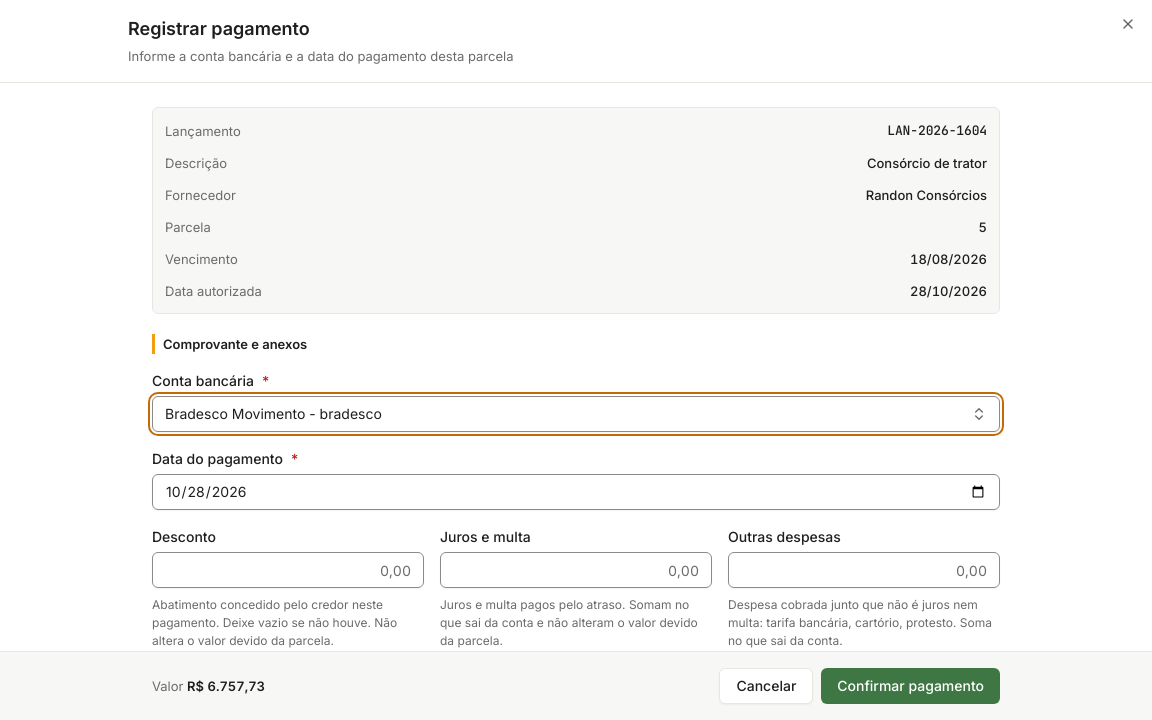
Test: PagarParcelaDrawer, os três ajustes do pagamento › juros e despesa PODEM passar do valor da parcela; o desconto não
In the field labelled "Juros e multa": point(576, 570) [440,552,712,588], type "9.000,00"
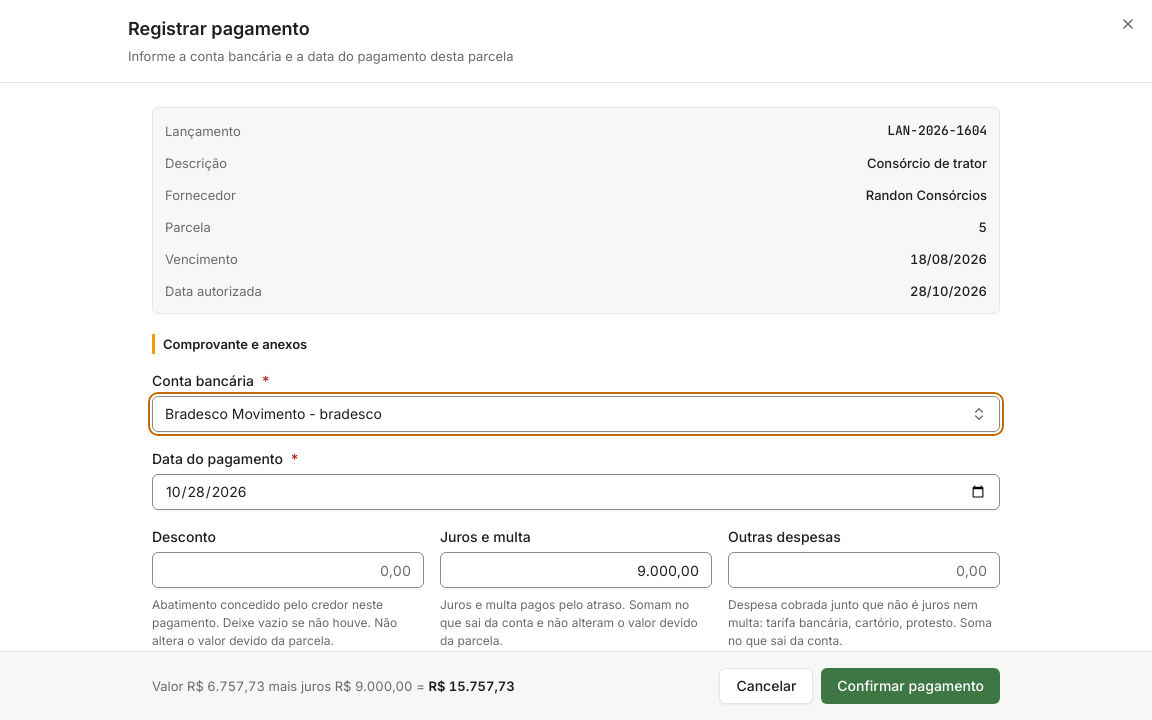
Check: the button "Confirmar pagamento" is enabled, box [821,668,1000,704]
// Desconto maior que a dívida é dinheiro que ninguém deve.
In the field labelled "Desconto": point(288, 570) [152,552,424,588], type "9.000,00"
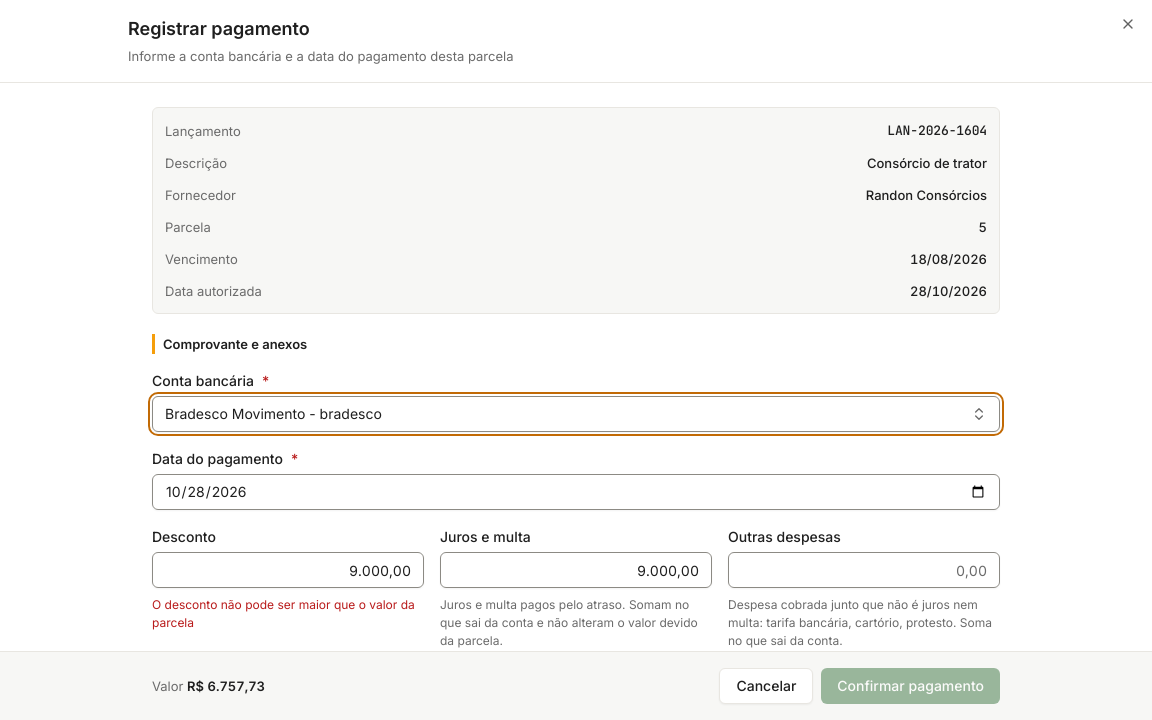
Check: the button "Confirmar pagamento" is disabled, box [821,668,1000,704]
Check: the text "O desconto não pode ser maior que o valor da parcela" is shown, box [152,596,424,632]
